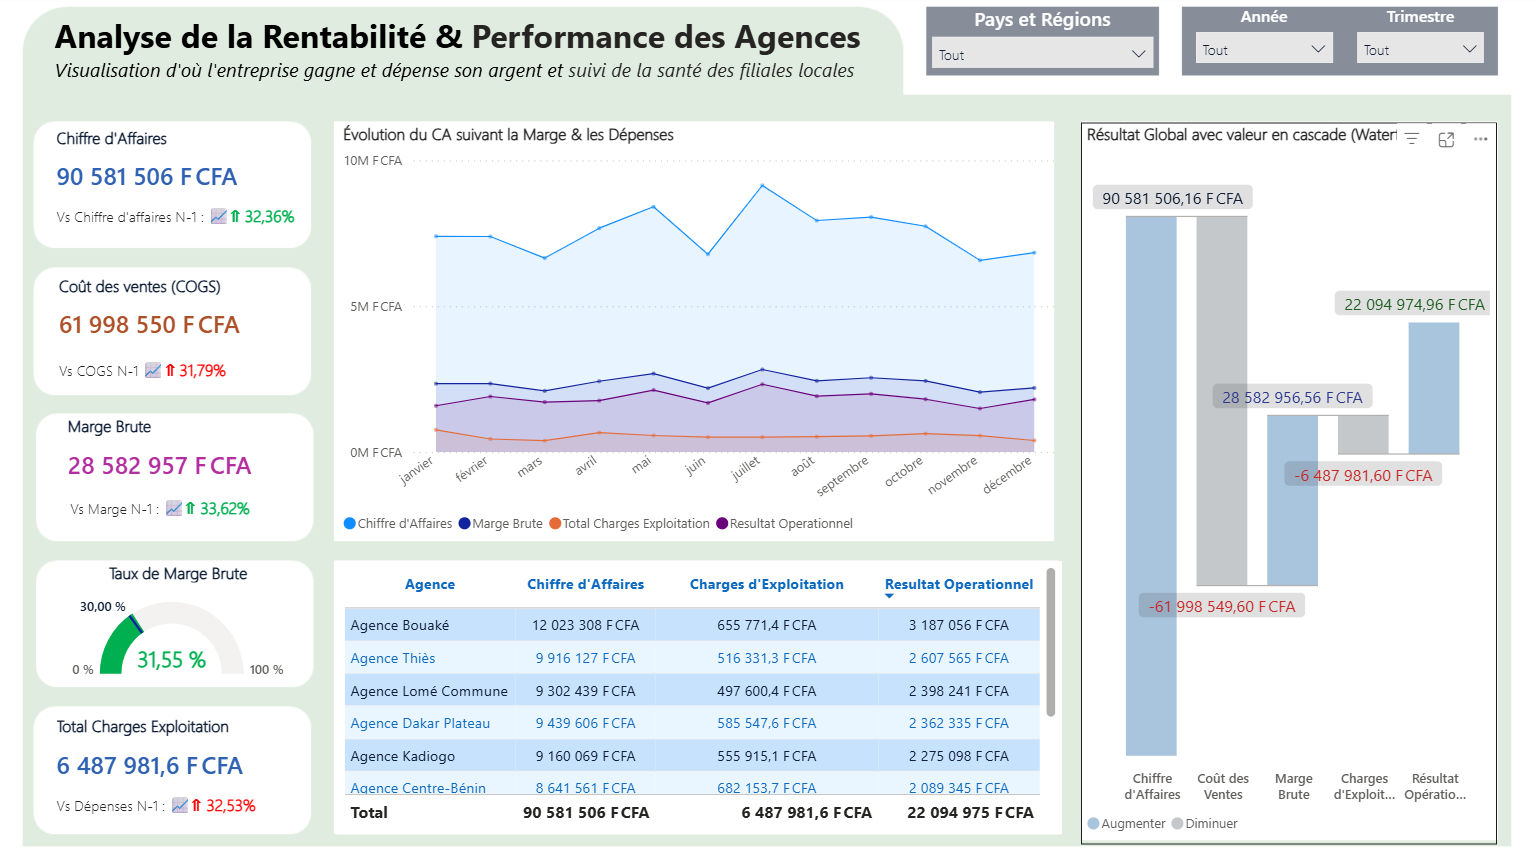

The page's visual inventory and layout, read from the dashboard file:
{"tool":"powerbi","page":{"name":"2. Analyse de la Rentabilité","canvas":[1280,720],"ordinal":1},"visuals":[{"type":"waterfallChart","title":"Résultat Global avec valeur en cascade (Waterfall) ","fields":{"Category":["Structure_Waterfall.Etape"],"Y":["_Mesures.Valeur Waterfall"]},"box":[900,105.8,344.2,598.8],"z":0},{"type":"lineChart","title":"Évolution du CA suivant la Marge & les Dépenses","fields":{"Category":["Calendrier.Nom Mois"],"Y":["_Mesures.Chiffre d'Affaires","_Mesures.Marge Brute","_Mesures.Total Charges Exploitation","_Mesures.Resultat Operationnel"]},"box":[282.6,105.8,601.2,350],"z":1000},{"type":"slicer","title":"Pays et Régions","fields":{"Values":["agences.pays","agences.region","agences.nom_agence"]},"box":[766.3,8.1,203.5,68.6],"z":2000},{"type":"slicer","title":"Année","fields":{"Values":["Calendrier.Année"]},"box":[984.9,8.1,133.7,58.1],"z":3000},{"type":"cardVisual","title":"Chiffre d''affaires","fields":{"Data":["_Mesures.Chiffre d'Affaires"]},"box":[34.9,105.8,240,110.6],"z":5000},{"type":"cardVisual","title":"Marge Brute","fields":{"Data":["_Mesures.Marge Brute"]},"box":[44.2,345.3,238.4,110.5],"z":6000},{"type":"cardVisual","title":"Marge Brute","fields":{"Data":["_Mesures.COGS"]},"box":[34.9,225.6,238.8,120],"z":7000},{"type":"gauge","title":"Taux de Marge Brute","fields":{"MaxValue":["_Mesures.Taux Max"],"MinValue":["_Mesures.Taux min"],"TargetValue":["_Mesures.Taux de Marge Cible"],"Y":["_Mesures.Taux de Marge"]},"box":[30.2,469.8,241.9,103.5],"z":8000},{"type":"cardVisual","title":"Chiffre d''affaires","fields":{"Data":["_Mesures.Total Charges Exploitation"]},"box":[34.9,594.2,240,110.6],"z":9000},{"type":"tableEx","fields":{"Values":["agences.nom_agence","_Mesures.Chiffre d'Affaires","_Mesures.Total Charges Exploitation","_Mesures.Resultat Operationnel"]},"box":[282.6,469.8,601.2,226.7],"z":10000},{"type":"textbox","box":[43,10.5,723.3,77.9],"z":11000},{"type":"slicer","title":"Trimestre","fields":{"Values":["Calendrier.Trimestre"]},"box":[1118.6,8.1,125.6,58.1],"z":12000}]}

Visuals, with their boxes in screenshot pixels (x1, y1, x2, y2), scaled from the page's 1280x720 canvas onto the 1537x853 screenshot:
"Résultat Global avec valeur en cascade (Waterfall) " waterfallChart: Rect(1081, 125, 1494, 835)
"Évolution du CA suivant la Marge & les Dépenses" lineChart: Rect(339, 125, 1061, 540)
"Pays et Régions" slicer: Rect(920, 10, 1165, 91)
"Année" slicer: Rect(1183, 10, 1343, 78)
"Chiffre d''affaires" cardVisual: Rect(42, 125, 330, 256)
"Marge Brute" cardVisual: Rect(53, 409, 339, 540)
"Marge Brute" cardVisual: Rect(42, 267, 329, 409)
"Taux de Marge Brute" gauge: Rect(36, 557, 327, 679)
"Chiffre d''affaires" cardVisual: Rect(42, 704, 330, 835)
tableEx - agences.nom_agence x _Mesures.Chiffre d'Affaires: Rect(339, 557, 1061, 825)
textbox: Rect(52, 12, 920, 105)
"Trimestre" slicer: Rect(1343, 10, 1494, 78)
